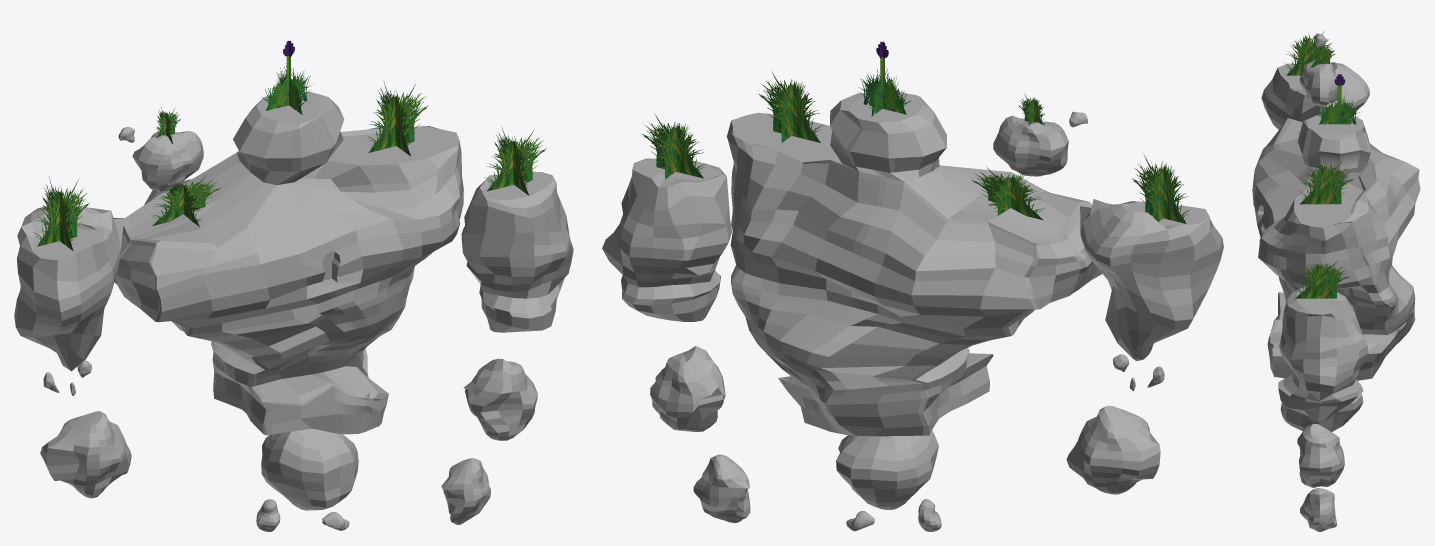
File: bossModel10.fbx
The picture shows the model from 3 angles, left to right: view 1: azimuth 30°, elevation 25°; view 2: azimuth 150°, elevation 25°; view 3: azimuth 270°, elevation 25°; orthographic projection. The views are drawn at different scales.
Parts seen in each view (by area): view 1: polySurface17, pPlane10, pPlane9, pPlane4, pPlane7, pPlane1, pPlane11, pPlane5, pPlane8; view 2: polySurface17, pPlane10, pPlane9, pPlane4, pPlane7, pPlane1, pPlane11, pPlane8, pPlane5; view 3: polySurface17, pPlane11, pPlane8, pPlane15, pPlane5, pPlane3.
Boxes of the visible parts, x1,y1,x2,y2 form: polySurface17: [14, 91, 573, 531]; pPlane10: [367, 84, 428, 152]; pPlane9: [484, 129, 546, 191]; pPlane4: [33, 179, 89, 246]; pPlane7: [150, 175, 221, 225]; pPlane1: [261, 40, 312, 110]; pPlane11: [376, 80, 411, 156]; pPlane5: [42, 177, 73, 250]; pPlane8: [494, 126, 529, 195]; polySurface17: [602, 92, 1223, 531]; pPlane10: [758, 71, 823, 142]; pPlane9: [642, 113, 705, 178]; pPlane4: [1132, 153, 1190, 223]; pPlane7: [972, 166, 1044, 220]; pPlane1: [858, 41, 910, 114]; pPlane11: [773, 80, 809, 142]; pPlane8: [656, 122, 693, 179]; pPlane5: [1145, 162, 1178, 221]; polySurface17: [1252, 33, 1420, 531]; pPlane11: [1299, 160, 1353, 204]; pPlane8: [1295, 260, 1349, 298]; pPlane15: [1316, 74, 1359, 124]; pPlane5: [1285, 31, 1334, 75]; pPlane3: [1310, 45, 1335, 67].
Size of the model in its own units: 6.06 by 5.38 by 2.01.
